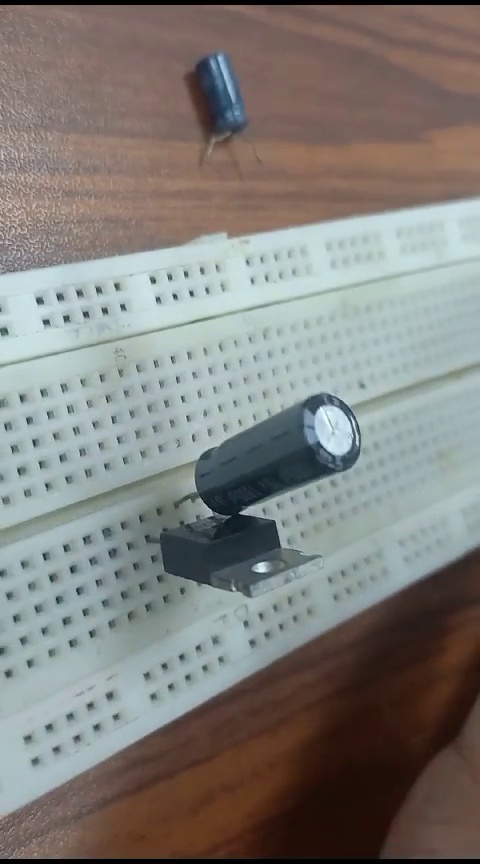capacitor: (190, 389, 374, 503), (151, 49, 272, 164)
voltage regulator: (150, 511, 328, 591)
